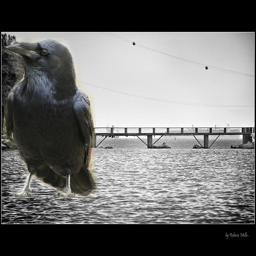Crow: (3, 38, 97, 198)
